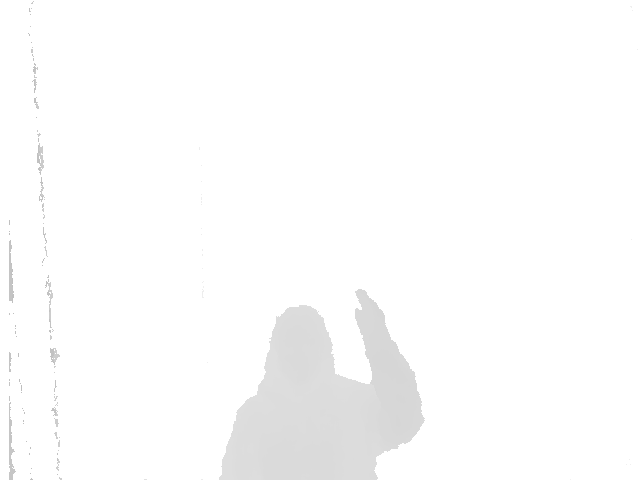hand: (351, 285, 392, 350)
head: (265, 306, 335, 378)
person: (218, 288, 425, 480)
